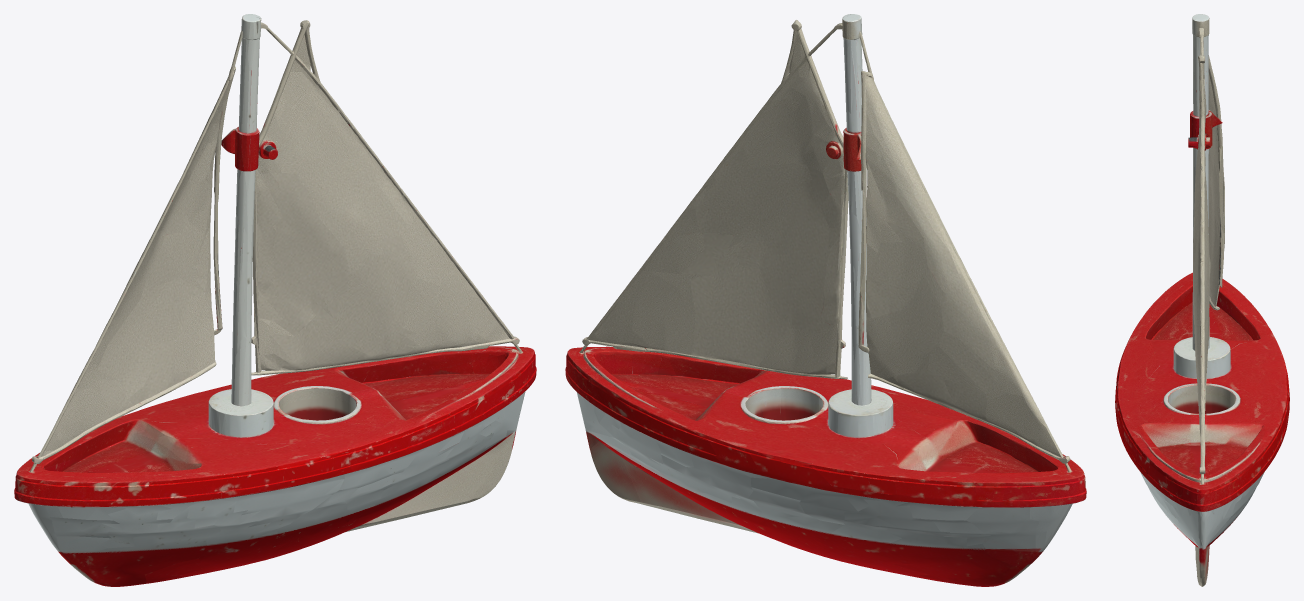
The model's file is barchetta.glb.
The picture shows the model from 3 angles, left to right: view 1: azimuth 30°, elevation 25°; view 2: azimuth 150°, elevation 25°; view 3: azimuth 270°, elevation 25°; orthographic projection. The views are drawn at different scales.
Bounding box in the file's own units: 1.9 × 1.9 × 0.6305.
1 material, 1 textured.
